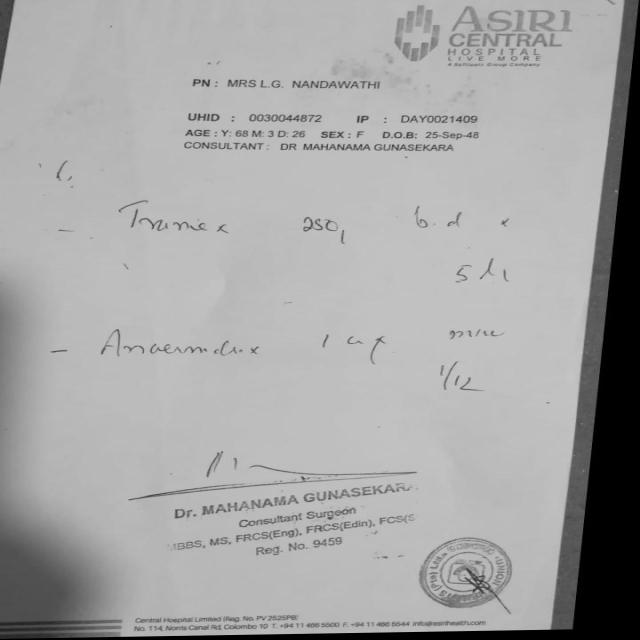Prescription: (119, 193, 525, 295), (102, 320, 514, 404)
